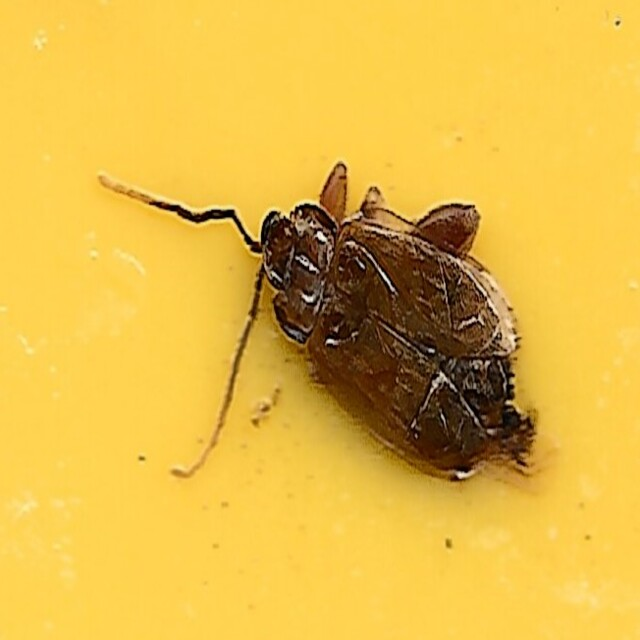Coleoptera: (98, 152, 542, 488)
